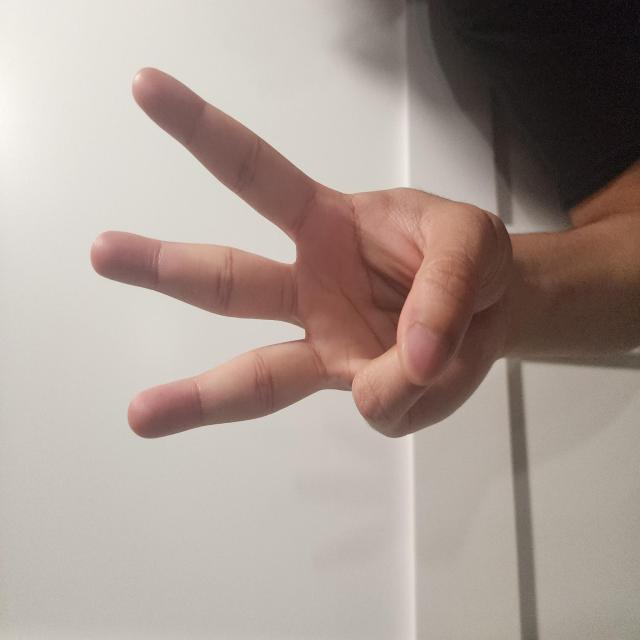W: (144, 117, 433, 640)
